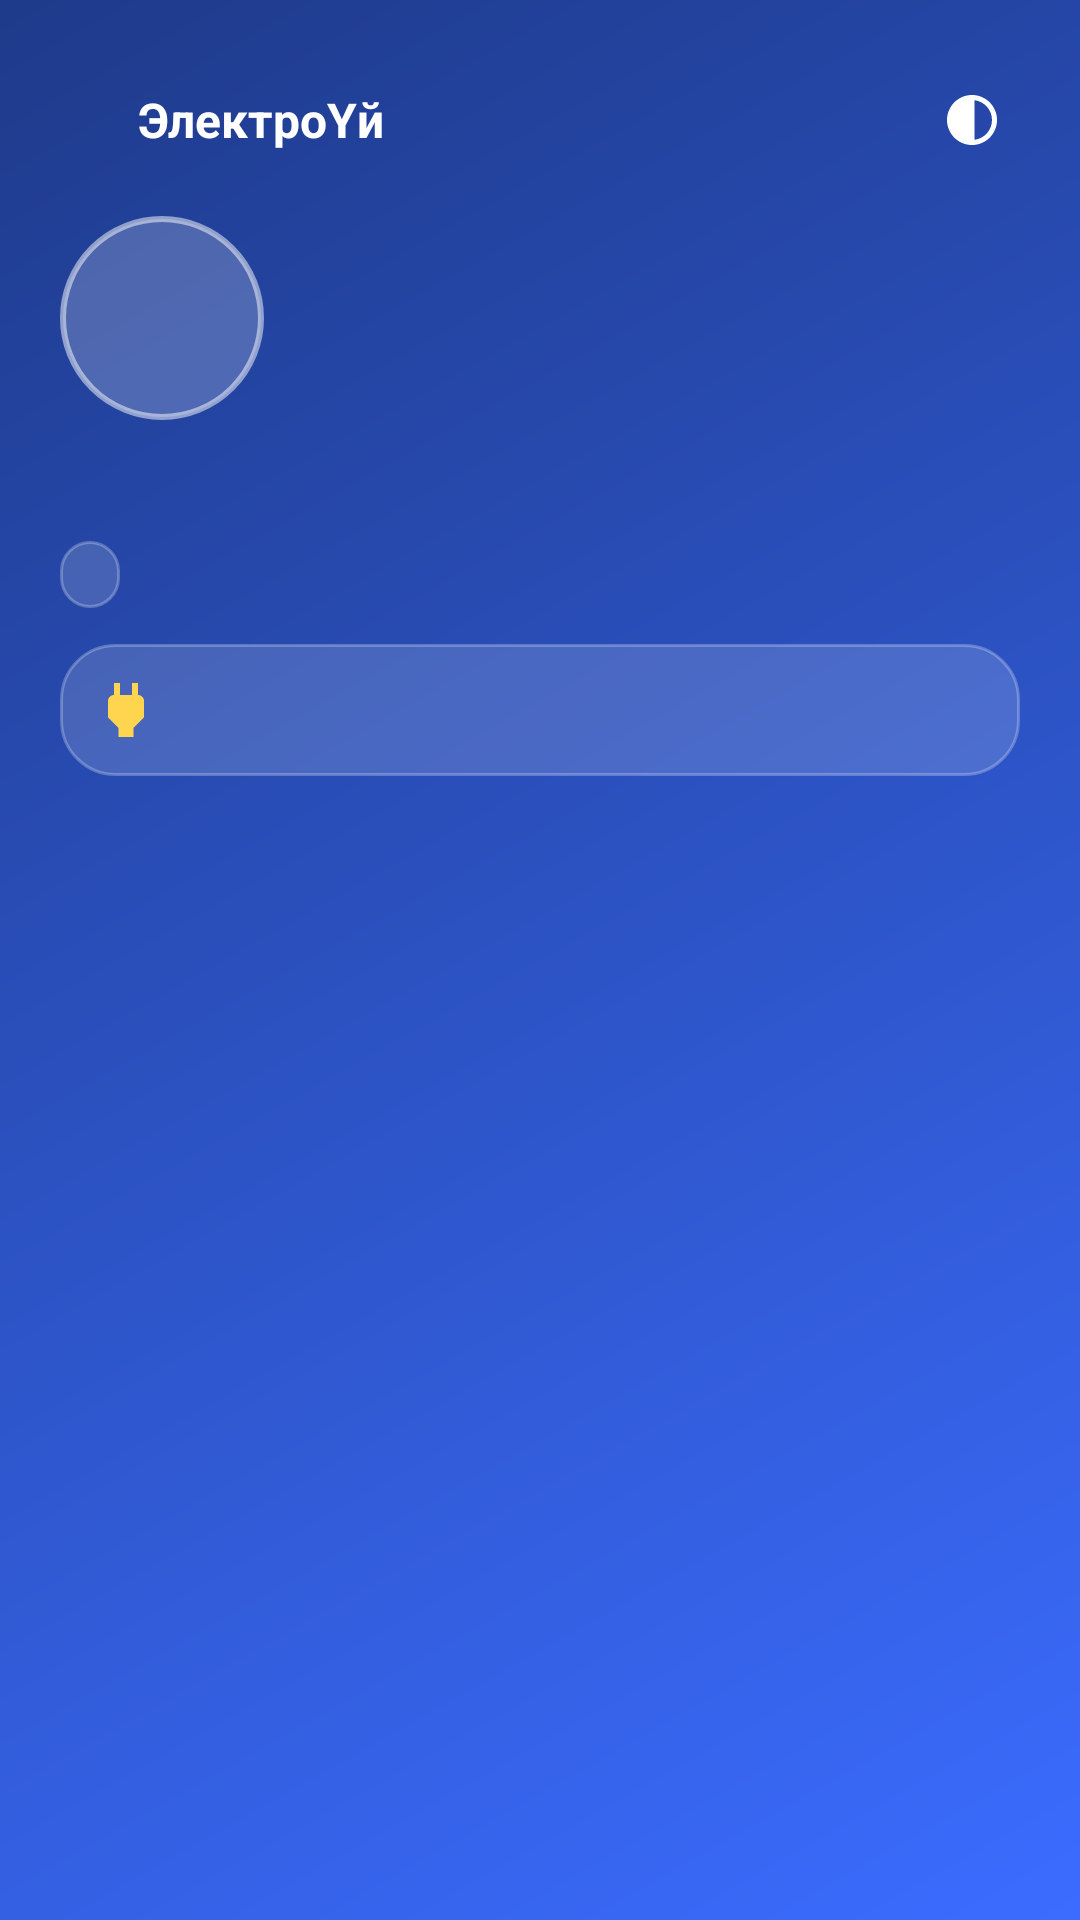

Point at icon controls on the screen. Image size 1080w x 1920h, points as point (x, y).
Тақырыпты ауыстыру: point (972, 120)
